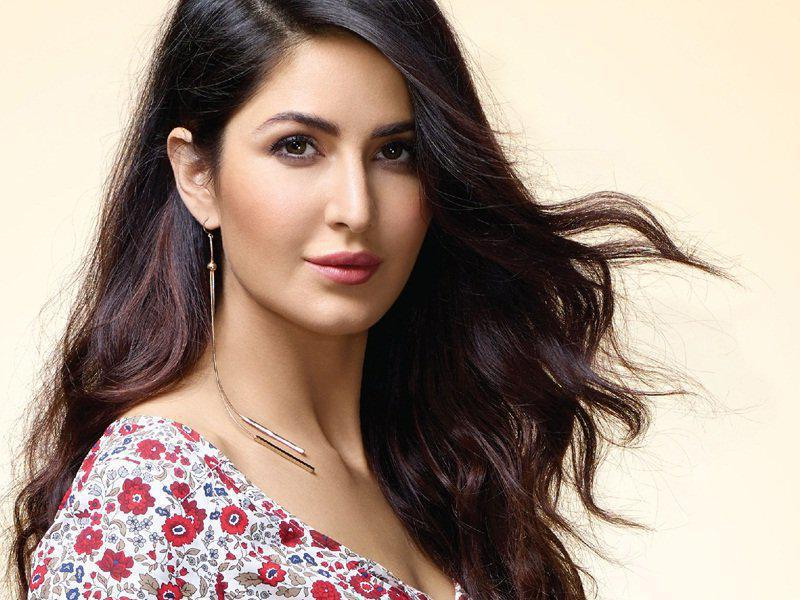Sober: (233, 63, 417, 321)
